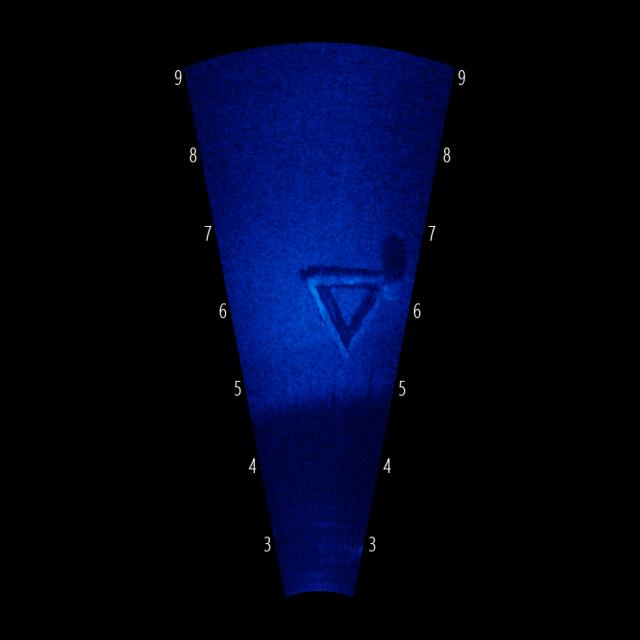triangle: (300, 258, 394, 355)
